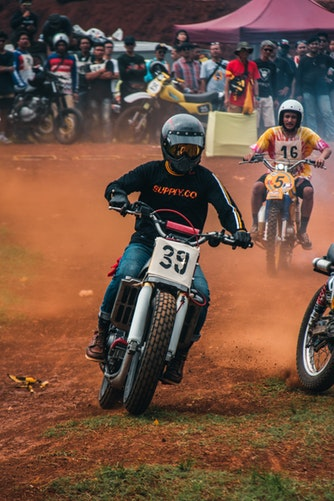helmet: (163, 124, 223, 178)
